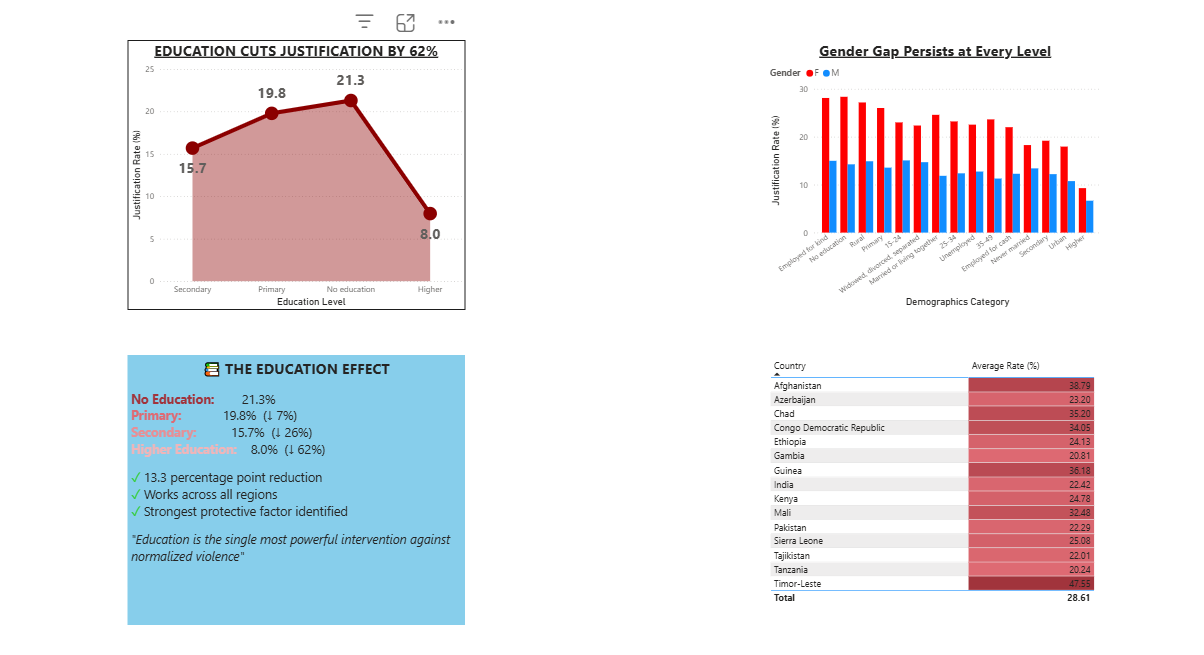

The dashboard page shown, as its layout file describes it:
{"tool":"powerbi","page":{"name":"EDUCATION'S POWER","canvas":[1800,1000],"ordinal":2},"visuals":[{"type":"lineChart","title":"EDUCATION CUTS JUSTIFICATION BY 62%","fields":{"Category":["violence_data.Demographics Response"],"Y":["Avg(violence_data.Value)"]},"box":[197.7,61.4,500,400],"z":0},{"type":"clusteredColumnChart","title":"Gender Gap Persists at Every Level","fields":{"Category":["violence_data.Demographics Response"],"Y":["Avg(violence_data.Value)"],"Series":["violence_data.Gender"]},"box":[1145.5,61.4,500,400],"z":1000},{"type":"textbox","box":[197.6,528.6,500,400],"z":2000},{"type":"tableEx","fields":{"Values":["violence_data.Country","Avg(violence_data.Value)"]},"box":[1145.5,529.5,500,400],"z":3000}]}

Visuals, with their boxes on the page's 1800x1000 design canvas (x1, y1, x2, y2). These are canvas units, not pixel positions in the 1204x655 screenshot, which may show the page scaled, cropped or inside an application window:
"EDUCATION CUTS JUSTIFICATION BY 62%" lineChart: (left=198, top=61, right=698, bottom=461)
"Gender Gap Persists at Every Level" clusteredColumnChart: (left=1146, top=61, right=1646, bottom=461)
textbox: (left=198, top=529, right=698, bottom=929)
tableEx - violence_data.Country x Avg(violence_data.Value): (left=1146, top=530, right=1646, bottom=930)
